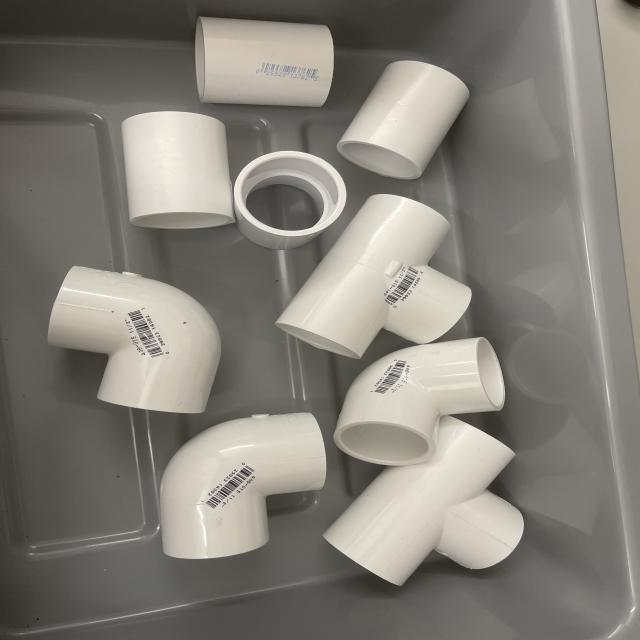L Joint: (44, 265, 224, 418), (159, 413, 327, 561), (334, 340, 504, 473)
T Joint: (323, 416, 526, 587), (275, 194, 473, 360)
